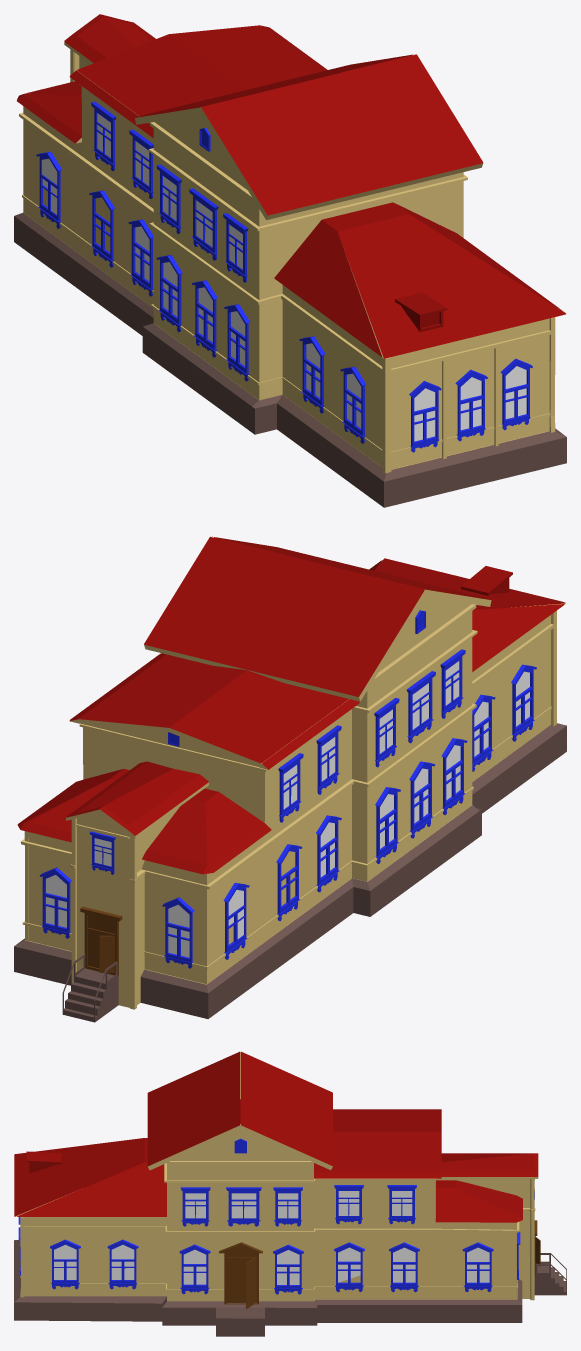
Rendered from gumrak-g.fbx.
3 renders of one model, top to bottom at view 1: azimuth 30°, elevation 25°; view 2: azimuth 150°, elevation 25°; view 3: azimuth 270°, elevation 25°, orthographic. The views are drawn at different scales.
Visible parts, largest first — view 1: Куб, Плоскость.009, Куб.001; view 2: Куб, Плоскость.009, Куб.002, Плоскость.023, Куб.001; view 3: Куб, Плоскость.009, Плоскость.006, Куб.002, Куб.001.
Part boxes in pixels (x1,y1,x2,y2): Куб: (14, 14, 566, 507); Плоскость.009: (36, 101, 532, 452); Куб.001: (395, 292, 447, 332); Куб: (14, 536, 566, 1018); Плоскость.009: (39, 610, 536, 968); Куб.002: (62, 954, 118, 1022); Плоскость.023: (80, 906, 122, 975); Куб.001: (461, 566, 512, 595); Куб: (14, 1051, 538, 1336); Плоскость.009: (18, 1138, 534, 1294); Плоскость.006: (219, 1242, 262, 1308); Куб.002: (534, 1253, 566, 1295); Куб.001: (26, 1151, 61, 1173).
Size of the model in its own units: 828 by 901 by 2259.
